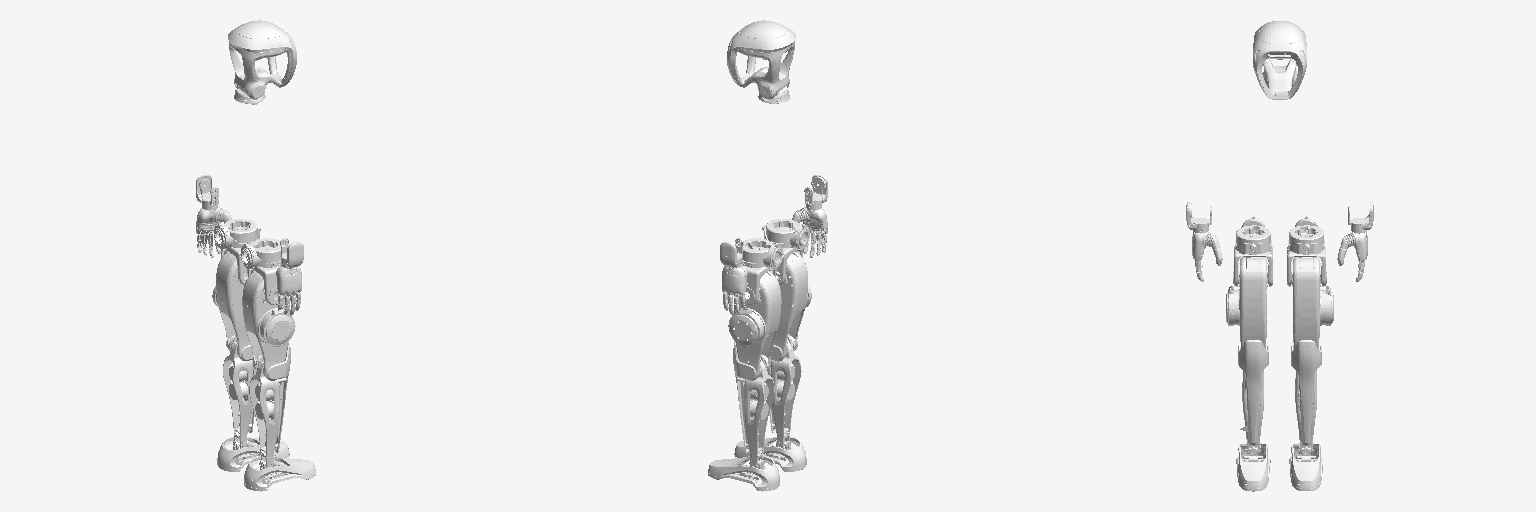
--- Facts derived from the render (not from the file) ---
Views: 3 orthographic renders of the robot side by side, from view 1: azimuth 30°, elevation 25°; view 2: azimuth 150°, elevation 25°; view 3: azimuth 270°, elevation 25°.
Model biped_s41 with 46 links and 45 joints (28 revolute, 17 fixed), rooted at dummy_link, posed every joint at zero.
Links seen in each view (by area): view 1: zhead_2_link, leg_r3_link, leg_r4_link, leg_l4_link, leg_l3_link, leg_r6_link, zarm_l6_link, zarm_r6_link, leg_l6_link, leg_l1_link, leg_r1_link, leg_r2_link; view 2: zhead_2_link, leg_l3_link, leg_l4_link, leg_r4_link, leg_r3_link, zarm_r6_link, leg_l6_link, zarm_l6_link, leg_r6_link, leg_r1_link, leg_l1_link, leg_l2_link; view 3: zhead_2_link, leg_r3_link, leg_l3_link, leg_r4_link, leg_l4_link, leg_r6_link, leg_l6_link, zarm_r6_link, zarm_l6_link, leg_l1_link, leg_r1_link.
Boxes of the visible links, bbox=[...] form: zhead_2_link: bbox=[228, 20, 296, 99]; leg_r3_link: bbox=[242, 271, 295, 380]; leg_r4_link: bbox=[249, 342, 290, 467]; leg_l4_link: bbox=[223, 336, 258, 448]; leg_l3_link: bbox=[212, 252, 250, 360]; leg_r6_link: bbox=[244, 457, 315, 491]; zarm_l6_link: bbox=[196, 175, 231, 257]; zarm_r6_link: bbox=[276, 238, 303, 315]; leg_l6_link: bbox=[217, 437, 289, 471]; leg_l1_link: bbox=[214, 219, 260, 249]; leg_r1_link: bbox=[241, 238, 283, 268]; leg_r2_link: bbox=[247, 266, 284, 304]; zhead_2_link: bbox=[727, 20, 795, 99]; leg_l3_link: bbox=[728, 271, 781, 380]; leg_l4_link: bbox=[733, 342, 774, 467]; leg_r4_link: bbox=[765, 336, 801, 448]; leg_r3_link: bbox=[773, 252, 811, 361]; zarm_r6_link: bbox=[792, 175, 827, 257]; leg_l6_link: bbox=[708, 457, 779, 491]; zarm_l6_link: bbox=[720, 238, 747, 315]; leg_r6_link: bbox=[734, 437, 806, 471]; leg_r1_link: bbox=[762, 219, 809, 249]; leg_l1_link: bbox=[739, 238, 782, 268]; leg_l2_link: bbox=[739, 265, 776, 304]; zhead_2_link: bbox=[1253, 21, 1306, 99]; leg_r3_link: bbox=[1226, 257, 1267, 349]; leg_l3_link: bbox=[1292, 257, 1333, 349]; leg_r4_link: bbox=[1238, 340, 1268, 453]; leg_l4_link: bbox=[1291, 340, 1321, 453]; leg_r6_link: bbox=[1236, 443, 1270, 491]; leg_l6_link: bbox=[1289, 443, 1322, 490]; zarm_r6_link: bbox=[1186, 202, 1222, 281]; zarm_l6_link: bbox=[1337, 202, 1373, 281]; leg_l1_link: bbox=[1288, 216, 1324, 254]; leg_r1_link: bbox=[1235, 216, 1271, 254].
Bounding box of the posed robot: 0.2597 × 0.6121 × 1.61 m (x, y, z).
Meshes: 31 distinct files referenced, 16 mesh visuals loaded (16 binary STL); not drawn: 15 (reference not matched to a file when rendering).

The robot description file, URDF, robot "biped_s41":
<?xml version='1.0' encoding='utf-8'?>
<robot name="biped_s41">
  <mujoco>
    <compiler meshdir="../meshes/" balanceinertia="true" discardvisual="false" />
  </mujoco>
  <link name="dummy_link" />
  <link name="base_link">
    <inertial>
      <origin xyz="-0.00505 0.0014 0.18077" rpy="0 0 0" />
      <mass value="23.8489" />
      <inertia ixx="0.28214" ixy="3e-05" ixz="0.01114" iyy="0.20534" iyz="0.00044" izz="0.13735" />
    </inertial>
    <visual>
      <origin xyz="0 0 0" rpy="0 0 0" />
      <geometry>
        <mesh filename="package://kuavo_assets/models/biped_s41/meshes/base_link.STL" />
      </geometry>
      <material name="">
        <color rgba="1 1 1 1" />
      </material>
    </visual>
  </link>
  <joint name="dummy_to_base_link" type="fixed">
    <origin xyz="0 0 0" rpy="0 0 0" />
    <parent link="dummy_link" />
    <child link="base_link" />
    <dynamics damping="0.2" friction="0.0"/>
  </joint>
  <link name="leg_l1_link">
    <inertial>
      <origin xyz="-0.00430148 -2.708e-05 -0.00851195" rpy="0 0 0" />
      <mass value="1.71093115" />
      <inertia ixx="0.00206092" ixy="1.97e-06" ixz="6.944e-05" iyy="0.00277274" iyz="-5.1e-06" izz="0.00370826" />
    </inertial>
    <visual>
      <origin xyz="0 0 0" rpy="0 0 0" />
      <geometry>
        <mesh filename="package://kuavo_assets/models/biped_s41/meshes/l_leg_roll.STL" />
      </geometry>
      <material name="">
        <color rgba="1 1 1 1" />
      </material>
    </visual>
  </link>
  <joint name="leg_l1_joint" type="revolute">
    <origin xyz="-0.0025 0.087 -0.066" rpy="0 0 0" />
    <parent link="base_link" />
    <child link="leg_l1_link" />
    <axis xyz="1 0 0" />
    <limit lower="-0.314159265358979" upper="0.663225115757845" effort="180.0" velocity="23.55" />
    <dynamics damping="0.2" friction="0.0"/>
  </joint>
  <link name="leg_l2_link">
    <inertial>
      <origin xyz="0.0 -0.00231118 -0.09062539" rpy="0 0 0" />
      <mass value="0.58029165" />
      <inertia ixx="0.00223984" ixy="0.0" ixz="3e-08" iyy="0.00123175" iyz="-6.98e-06" izz="0.00146391" />
    </inertial>
    <visual>
      <origin xyz="0 0 0" rpy="0 0 0" />
      <geometry>
        <mesh filename="package://kuavo_assets/models/biped_s41/meshes/l_leg_yaw.STL" />
      </geometry>
      <material name="">
        <color rgba="1 1 1 1" />
      </material>
    </visual>
  </link>
  <joint name="leg_l2_joint" type="revolute">
    <origin xyz="0 0 0" rpy="0 0 0" />
    <parent link="leg_l1_link" />
    <child link="leg_l2_link" />
    <axis xyz="0 0 1" />
    <limit lower="-0.872664625997165" upper="0.785398163397448" effort="100.0" velocity="41.3433333333333" />
    <dynamics damping="0.5" friction="0.0"/>
  </joint>
  <link name="leg_l3_link">
    <inertial>
      <origin xyz="0.00150537 0.01199614 -0.08411619" rpy="0 0 0" />
      <mass value="4.50393141" />
      <inertia ixx="0.0389365" ixy="7.866e-05" ixz="0.00102086" iyy="0.03942609" iyz="0.00219138" izz="0.00999961" />
    </inertial>
    <visual>
      <origin xyz="0 0 0" rpy="0 0 0" />
      <geometry>
        <mesh filename="package://kuavo_assets/models/biped_s41/meshes/l_leg_pitch.STL" />
      </geometry>
      <material name="">
        <color rgba="1 1 1 1" />
      </material>
    </visual>
  </link>
  <joint name="leg_l3_joint" type="revolute">
    <origin xyz="0.000500354536093913 -0.00100000000000011 -0.1287" rpy="0 0 0" />
    <parent link="leg_l2_link" />
    <child link="leg_l3_link" />
    <axis xyz="0 1 0" />
    <limit lower="-2.00712863979348" upper="1.5707963267949" effort="100.0" velocity="41.3433333333333" />
    <dynamics damping="0.2" friction="0.0"/>
  </joint>
  <link name="leg_l4_link">
    <inertial>
      <origin xyz="0.00696242 5.314e-05 -0.11549851" rpy="0 0 0" />
      <mass value="1.62776815" />
      <inertia ixx="0.01243912" ixy="-2.29e-06" ixz="5.881e-05" iyy="0.01229563" iyz="-2.895e-05" izz="0.00097937" />
    </inertial>
    <visual>
      <origin xyz="0 0 0" rpy="0 0 0" />
      <geometry>
        <mesh filename="package://kuavo_assets/models/biped_s41/meshes/l_knee.STL" />
      </geometry>
      <material name="">
        <color rgba="1 1 1 1" />
      </material>
    </visual>
  </link>
  <joint name="leg_l4_joint" type="revolute">
    <origin xyz="-6.87185435835039E-05 0 -0.284" rpy="0 0 0" />
    <parent link="leg_l3_link" />
    <child link="leg_l4_link" />
    <axis xyz="0 1 0" />
    <limit lower="0.0" upper="2.53072741539178" effort="180.0" velocity="23.55" />
    <dynamics damping="0.2" friction="0.0"/>
  </joint>
  <link name="leg_l5_link">
    <inertial>
      <origin xyz="0.0 0.0 0.0" rpy="0 0 0" />
      <mass value="0.07193524" />
      <inertia ixx="6.92e-04" ixy="0.0" ixz="0.0" iyy="6.92e-04" iyz="0.0" izz="1.218e-04" />
    </inertial>
    <visual>
      <origin xyz="0 0 0" rpy="0 0 0" />
      <geometry>
        <mesh filename="package://kuavo_assets/models/biped_s41/meshes/l_foot_pitch.STL" />
      </geometry>
      <material name="">
        <color rgba="1 1 1 1" />
      </material>
    </visual>
  </link>
  <joint name="leg_l5_joint" type="revolute">
    <origin xyz="-0.000431635992531742 0 -0.346000000000001" rpy="0 0 0" />
    <parent link="leg_l4_link" />
    <child link="leg_l5_link" />
    <axis xyz="0 1 0" />
    <limit lower="-0.872664625997165" upper="0.349065850398866" effort="36.0" velocity="23.0266666666667" />
    <dynamics damping="0.2" friction="0.0"/>
  </joint>
  <link name="leg_l6_link">
    <inertial>
      <origin xyz="0.03732754 -2.22e-06 -0.03883977" rpy="0 0 0" />
      <mass value="0.49861272" />
      <inertia ixx="0.00039242" ixy="3e-08" ixz="4.664e-05" iyy="0.00158655" iyz="0.0" izz="0.00172576" />
    </inertial>
    <visual>
      <origin xyz="0 0 0" rpy="0 0 0" />
      <geometry>
        <mesh filename="package://kuavo_assets/models/biped_s41/meshes/l_foot_roll.STL" />
      </geometry>
      <material name="">
        <color rgba="1 1 1 1" />
      </material>
    </visual>
  </link>
  <joint name="leg_l6_joint" type="revolute">
    <origin xyz="0 0 0" rpy="0 0 0" />
    <parent link="leg_l5_link" />
    <child link="leg_l6_link" />
    <axis xyz="1 0 0" />
    <limit lower="-0.261799387799149" upper="0.261799387799149" effort="36.0" velocity="23.0266666666667" />
    <dynamics damping="0.2" friction="0.0"/>
  </joint>
  <link name="ll_foot_toe">
    <collision>
      <origin rpy="0 0 0" xyz="0 0 0" />
      <geometry>
        <sphere radius="0.005" />
      </geometry>
    </collision>
  </link>
  <joint name="ll_foot_toe_joint" type="fixed">
    <origin xyz="0.17084 0.04773 -0.0595" rpy="0 0 0" />
    <parent link="leg_l6_link" />
    <child link="ll_foot_toe" />
    <dynamics damping="0.2" friction="0.0"/>
  </joint>
  <link name="ll_foot_heel">
    <collision>
      <origin rpy="0 0 0" xyz="0 0 0" />
      <geometry>
        <sphere radius="0.005" />
      </geometry>
    </collision>
  </link>
  <joint name="ll_foot_heel_joint" type="fixed">
    <origin xyz="-0.073164 0.04773 -0.0595" rpy="0 0 0" />
    <parent link="leg_l6_link" />
    <child link="ll_foot_heel" />
    <dynamics damping="0.2" friction="0.0"/>
  </joint>
  <link name="lr_foot_toe">
    <collision>
      <origin rpy="0 0 0" xyz="0 0 0" />
      <geometry>
        <sphere radius="0.005" />
      </geometry>
    </collision>
  </link>
  <joint name="lr_foot_toe_joint" type="fixed">
    <origin xyz="0.17084 -0.04773 -0.0595" rpy="0 0 0" />
    <parent link="leg_l6_link" />
    <child link="lr_foot_toe" />
    <dynamics damping="0.2" friction="0.0"/>
  </joint>
  <link name="lr_foot_heel">
    <collision>
      <origin rpy="0 0 0" xyz="0 0 0" />
      <geometry>
        <sphere radius="0.005" />
      </geometry>
    </collision>
  </link>
  <joint name="lr_foot_heel_joint" type="fixed">
    <origin xyz="-0.073164 -0.04773 -0.0595" rpy="0 0 0" />
    <parent link="leg_l6_link" />
    <child link="lr_foot_heel" />
    <dynamics damping="0.2" friction="0.0"/>
  </joint>
  <link name="l_foot_toe">
    <collision>
      <origin rpy="0 0 0" xyz="0 0 0" />
      <geometry>
        <sphere radius="0.005" />
      </geometry>
    </collision>
  </link>
  <joint name="l_foot_toe_joint" type="fixed">
    <origin xyz="0.17084 0.0 -0.0595" rpy="0 0 0" />
    <parent link="leg_l6_link" />
    <child link="l_foot_toe" />
    <dynamics damping="0.2" friction="0.0"/>
  </joint>
  <link name="l_foot_heel">
    <collision>
      <origin rpy="0 0 0" xyz="0 0 0" />
      <geometry>
        <sphere radius="0.005" />
      </geometry>
    </collision>
  </link>
  <joint name="l_foot_heel_joint" type="fixed">
    <origin xyz="-0.073164 0.0 -0.0595" rpy="0 0 0" />
    <parent link="leg_l6_link" />
    <child link="l_foot_heel" />
    <dynamics damping="0.2" friction="0.0"/>
  </joint>
  <link name="leg_r1_link">
    <inertial>
      <origin xyz="-0.00430146 2.709e-05 -0.00851195" rpy="0 0 0" />
      <mass value="1.71093008" />
      <inertia ixx="0.00206092" ixy="-1.97e-06" ixz="6.944e-05" iyy="0.00277274" iyz="5.1e-06" izz="0.00370826" />
    </inertial>
    <visual>
      <origin xyz="0 0 0" rpy="0 0 0" />
      <geometry>
        <mesh filename="package://kuavo_assets/models/biped_s41/meshes/r_leg_roll.STL" />
      </geometry>
      <material name="">
        <color rgba="1 1 1 1" />
      </material>
    </visual>
  </link>
  <joint name="leg_r1_joint" type="revolute">
    <origin xyz="-0.0025 -0.087 -0.066" rpy="0 0 0" />
    <parent link="base_link" />
    <child link="leg_r1_link" />
    <axis xyz="1 0 0" />
    <limit lower="-0.663225115757845" upper="0.314159265358979" effort="180.0" velocity="23.55" />
    <dynamics damping="0.2" friction="0.0"/>
  </joint>
  <link name="leg_r2_link">
    <inertial>
      <origin xyz="0.0 0.00231118 -0.09062539" rpy="0 0 0" />
      <mass value="0.58029165" />
      <inertia ixx="0.00223984" ixy="0.0" ixz="-3e-08" iyy="0.00123175" iyz="6.98e-06" izz="0.00146391" />
    </inertial>
    <visual>
      <origin xyz="0 0 0" rpy="0 0 0" />
      <geometry>
        <mesh filename="package://kuavo_assets/models/biped_s41/meshes/r_leg_yaw.STL" />
      </geometry>
      <material name="">
        <color rgba="1 1 1 1" />
      </material>
    </visual>
  </link>
  <joint name="leg_r2_joint" type="revolute">
    <origin xyz="0 0 0" rpy="0 0 0" />
    <parent link="leg_r1_link" />
    <child link="leg_r2_link" />
    <axis xyz="0 0 1" />
    <limit lower="-0.785398163397448" upper="0.872664625997165" effort="100.0" velocity="41.3433333333333" />
    <dynamics damping="0.5" friction="0.0"/>
  </joint>
  <link name="leg_r3_link">
    <inertial>
      <origin xyz="0.00208315 -0.01199644 -0.08411379" rpy="0 0 0" />
      <mass value="4.50385993" />
      <inertia ixx="0.03893478" ixy="-7.792e-05" ixz="0.00103064" iyy="0.03942522" iyz="-0.00219154" izz="0.01000016" />
    </inertial>
    <visual>
      <origin xyz="0 0 0" rpy="0 0 0" />
      <geometry>
        <mesh filename="package://kuavo_assets/models/biped_s41/meshes/r_leg_pitch.STL" />
      </geometry>
      <material name="">
        <color rgba="1 1 1 1" />
      </material>
    </visual>
  </link>
  <joint name="leg_r3_joint" type="revolute">
    <origin xyz="-4.88006581312577E-05 0 -0.1287" rpy="0 0 0" />
    <parent link="leg_r2_link" />
    <child link="leg_r3_link" />
    <axis xyz="0 1 0" />
    <limit lower="-2.00712863979348" upper="1.5707963267949" effort="100.0" velocity="41.3433333333333" />
    <dynamics damping="0.2" friction="0.0"/>
  </joint>
  <link name="leg_r4_link">
    <inertial>
      <origin xyz="0.00743231 -5.343e-05 -0.11558701" rpy="0 0 0" />
      <mass value="1.62655699" />
      <inertia ixx="0.01241258" ixy="2.28e-06" ixz="6.289e-05" iyy="0.0122692" iyz="2.902e-05" izz="0.00097927" />
    </inertial>
    <visual>
      <origin xyz="0 0 0" rpy="0 0 0" />
      <geometry>
        <mesh filename="package://kuavo_assets/models/biped_s41/meshes/r_knee.STL" />
      </geometry>
      <material name="">
        <color rgba="1 1 1 1" />
      </material>
    </visual>
  </link>
  <joint name="leg_r4_joint" type="revolute">
    <origin xyz="0.000147138572785148 0 -0.283999982974744" rpy="0 0 0" />
    <parent link="leg_r3_link" />
    <child link="leg_r4_link" />
    <axis xyz="0 1 0" />
    <limit lower="0.0" upper="2.53072741539178" effort="180.0" velocity="23.55" />
    <dynamics damping="0.2" friction="0.0"/>
  </joint>
  <link name="leg_r5_link">
    <inertial>
      <origin xyz="0.0 0.0 0.0" rpy="0 0 0" />
      <mass value="0.07193524" />
      <inertia ixx="6.92e-04" ixy="0.0" ixz="0.0" iyy="6.92e-04" iyz="0.0" izz="1.218e-04" />
    </inertial>
    <visual>
      <origin xyz="0 0 0" rpy="0 0 0" />
      <geometry>
        <mesh filename="package://kuavo_assets/models/biped_s41/meshes/r_foot_pitch.STL" />
      </geometry>
      <material name="">
        <color rgba="1 1 1 1" />
      </material>
    </visual>
  </link>
  <joint name="leg_r5_joint" type="revolute">
    <origin xyz="0.000119806050928577 0 -0.345999979257963" rpy="0 0 0" />
    <parent link="leg_r4_link" />
    <child link="leg_r5_link" />
    <axis xyz="0 1 0" />
    <limit lower="-0.872664625997165" upper="0.349065850398866" effort="36.0" velocity="23.0266666666667" />
    <dynamics damping="0.2" friction="0.0"/>
  </joint>
  <link name="leg_r6_link">
    <inertial>
      <origin xyz="0.03734098 -2.22e-06 -0.03882684" rpy="0 0 0" />
      <mass value="0.49861272" />
      <inertia ixx="0.00039238" ixy="3e-08" ixz="4.618e-05" iyy="0.00158655" iyz="0.0" izz="0.00172579" />
    </inertial>
    <visual>
      <origin xyz="0 0 0" rpy="0 0 0" />
      <geometry>
        <mesh filename="package://kuavo_assets/models/biped_s41/meshes/r_foot_roll.STL" />
      </geometry>
      <material name="">
        <color rgba="1 1 1 1" />
      </material>
    </visual>
  </link>
  <joint name="leg_r6_joint" type="revolute">
    <origin xyz="0 0 0" rpy="0 0 0" />
    <parent link="leg_r5_link" />
    <child link="leg_r6_link" />
    <axis xyz="1 0 0" />
    <limit lower="-0.261799387799149" upper="0.261799387799149" effort="36.0" velocity="23.0266666666667" />
    <dynamics damping="0.2" friction="0.0"/>
  </joint>
  <link name="rl_foot_toe">
    <collision>
      <origin rpy="0 0 0" xyz="0 0 0" />
      <geometry>
        <sphere radius="0.005" />
      </geometry>
    </collision>
  </link>
  <joint name="rl_foot_toe_joint" type="fixed">
    <origin xyz="0.17084 0.04773 -0.0595" rpy="0 0 0" />
    <parent link="leg_r6_link" />
    <child link="rl_foot_toe" />
    <dynamics damping="0.2" friction="0.0"/>
  </joint>
  <link name="rl_foot_heel">
    <collision>
      <origin rpy="0 0 0" xyz="0 0 0" />
      <geometry>
        <sphere radius="0.005" />
      </geometry>
    </collision>
  </link>
  <joint name="rl_foot_heel_joint" type="fixed">
    <origin xyz="-0.073164 0.04773 -0.0595" rpy="0 0 0" />
    <parent link="leg_r6_link" />
    <child link="rl_foot_heel" />
    <dynamics damping="0.2" friction="0.0"/>
  </joint>
  <link name="rr_foot_toe">
    <collision>
      <origin rpy="0 0 0" xyz="0 0 0" />
      <geometry>
        <sphere radius="0.005" />
      </geometry>
    </collision>
  </link>
  <joint name="rr_foot_toe_joint" type="fixed">
    <origin xyz="0.17084 -0.04773 -0.0595" rpy="0 0 0" />
    <parent link="leg_r6_link" />
    <child link="rr_foot_toe" />
    <dynamics damping="0.2" friction="0.0"/>
  </joint>
  <link name="rr_foot_heel">
    <collision>
      <origin rpy="0 0 0" xyz="0 0 0" />
      <geometry>
        <sphere radius="0.005" />
      </geometry>
    </collision>
  </link>
  <joint name="rr_foot_heel_joint" type="fixed">
    <origin xyz="-0.073164 -0.04773 -0.0595" rpy="0 0 0" />
    <parent link="leg_r6_link" />
    <child link="rr_foot_heel" />
    <dynamics damping="0.2" friction="0.0"/>
  </joint>
  <link name="r_foot_toe">
    <collision>
      <origin rpy="0 0 0" xyz="0 0 0" />
      <geometry>
        <sphere radius="0.005" />
      </geometry>
    </collision>
  </link>
  <joint name="r_foot_toe_joint" type="fixed">
    <origin xyz="0.17084 0.0 -0.0595" rpy="0 0 0" />
    <parent link="leg_r6_link" />
    <child link="r_foot_toe" />
    <dynamics damping="0.2" friction="0.0"/>
  </joint>
  <link name="r_foot_heel">
    <collision>
      <origin rpy="0 0 0" xyz="0 0 0" />
      <geometry>
        <sphere radius="0.005" />
      </geometry>
    </collision>
  </link>
  <joint name="r_foot_heel_joint" type="fixed">
    <origin xyz="-0.073164 0.0 -0.0595" rpy="0 0 0" />
    <parent link="leg_r6_link" />
    <child link="r_foot_heel" />
    <dynamics damping="0.2" friction="0.0"/>
  </joint>
  <link name="zarm_l1_link">
    <inertial>
      <origin xyz="0.008 -0.00158 0.0036" rpy="0 0 0" />
      <mass value="1.15" />
      <inertia ixx="0.0006" ixy="5e-05" ixz="1e-05" iyy="0.00048" iyz="-6e-05" izz="0.0007" />
    </inertial>
    <visual>
      <origin xyz="0 0 0" rpy="0 0 0" />
      <geometry>
        <mesh filename="package://kuavo_assets/models/biped_s41/meshes/l_arm_pitch.STL" />
      </geometry>
      <material name="">
        <color rgba="1 1 1 1" />
      </material>
    </visual>
  </link>
  <joint name="zarm_l1_joint" type="revolute">
    <origin xyz="-0.0175 0.25886 0.3245" rpy="0 0 0" />
    <parent link="base_link" />
    <child link="zarm_l1_link" />
    <axis xyz="0 1 0" />
    <limit lower="-2.61799387799149" upper="0.523598775598299" effort="100.0" velocity="41.3433333333333" />
    <dynamics damping="0.2" friction="0.0"/>
  </joint>
  <link name="zarm_l2_link">
    <inertial>
      <origin xyz="0.00144 0.02159 -0.0202" rpy="0 0 0" />
      <mass value="0.226" />
      <inertia ixx="0.0003" ixy="3e-05" ixz="1e-05" iyy="0.00061" iyz="5e-05" izz="0.00057" />
    </inertial>
    <visual>
      <origin xyz="0 0 0" rpy="0 0 0" />
      <geometry>
        <mesh filename="package://kuavo_assets/models/biped_s41/meshes/l_arm_roll.STL" />
      </geometry>
      <material name="">
        <color rgba="1 1 1 1" />
      </material>
    </visual>
  </link>
  <joint name="zarm_l2_joint" type="revolute">
    <origin xyz="0 0 0" rpy="0 0 0" />
    <parent link="zarm_l1_link" />
    <child link="zarm_l2_link" />
    <axis xyz="1 0 0" />
    <limit lower="-0.349065850398866" upper="2.0943951023932" effort="50.0" velocity="19.154" />
    <dynamics damping="0.2" friction="0.0"/>
  </joint>
  <link name="zarm_l3_link">
    <inertial>
      <origin xyz="-0.00157 -3e-05 -0.13318" rpy="0 0 0" />
      <mass value="1.166" />
      <inertia ixx="0.00245" ixy="-1e-05" ixz="-1e-05" iyy="0.0022" iyz="0.0" izz="0.00112" />
    </inertial>
    <visual>
      <origin xyz="0 0 0" rpy="0 0 0" />
      <geometry>
        <mesh filename="package://kuavo_assets/models/biped_s41/meshes/l_arm_yaw.STL" />
      </geometry>
      <material name="">
        <color rgba="1 1 1 1" />
      </material>
    </visual>
  </link>
  <joint name="zarm_l3_joint" type="revolute">
    <origin xyz="0 0 0" rpy="0 0 0" />
    <parent link="zarm_l2_link" />
    <child link="zarm_l3_link" />
    <axis xyz="0 0 1" />
    <limit lower="-1.5707963267949" upper="1.5707963267949" effort="20.0" velocity="18.84" />
    <dynamics damping="0.2" friction="0.0"/>
  </joint>
  <link name="zarm_l4_link">
    <inertial>
      <origin xyz="-4e-05 0.0098 -0.05283" rpy="0 0 0" />
      <mass value="0.575" />
      <inertia ixx="0.00098" ixy="0.0" ixz="0.0" iyy="0.00062" iyz="-0.00016" izz="0.00088" />
    </inertial>
    <visual>
      <origin xyz="0 0 0" rpy="0 0 0" />
      <geometry>
        <mesh filename="package://kuavo_assets/models/biped_s41/meshes/l_forearm.STL" />
      </geometry>
      <material name="">
        <color rgba="1 1 1 1" />
      </material>
    </visual>
  </link>
  <joint name="zarm_l4_joint" type="revolute">
    <origin xyz="0 0 -0.1646" rpy="0 0 0" />
    <parent link="zarm_l3_link" />
    <child link="zarm_l4_link" />
    <axis xyz="0 1 0" />
    <limit lower="-1.5707963267949" upper="0.0" effort="20.0" velocity="18.84" />
    <dynamics damping="0.2" friction="0.0"/>
  </joint>
  <link name="zarm_l5_link">
    <inertial>
      <origin xyz="-0.00011 0.00421 -0.11168" rpy="0 0 0" />
      <mass value="0.46" />
      <inertia ixx="0.00077" ixy="0.0" ixz="0.0" iyy="0.0005" iyz="-4e-05" izz="0.00063" />
    </inertial>
    <visual>
      <origin xyz="0 0 0" rpy="0 0 0" />
      <geometry>
        <mesh filename="package://kuavo_assets/models/biped_s41/meshes/l_hand_yaw.STL" />
      </geometry>
      <material name="">
        <color rgba="1 1 1 1" />
      </material>
    </visual>
  </link>
  <joint name="zarm_l5_joint" type="revolute">
    <origin xyz="0 0 0" rpy="0 0 0" />
    <parent link="zarm_l4_link" />
    <child link="zarm_l5_link" />
    <axis xyz="0 0 1" />
    <limit lower="-1.5707963267949" upper="1.5707963267949" effort="6.0" velocity="21.666" />
    <dynamics damping="0.2" friction="0.0"/>
  </joint>
  <link name="zarm_l6_link">
    <inertial>
      <origin xyz="0.00253 0.00382 -0.05356" rpy="0 0 0" />
      <mass value="0.35" />
      <inertia ixx="0.00023" ixy="0.0" ixz="0.0" iyy="0.00024" iyz="-4e-05" izz="0.00019" />
    </inertial>
    <visual>
      <origin xyz="0 0 0" rpy="0 0 0" />
      <geometry>
        <mesh filename="package://kuavo_assets/models/biped_s41/meshes/l_hand_pitch.STL" />
      </geometry>
      <material name="">
        <color rgba="1 1 1 1" />
      </material>
    </visual>
  </link>
  <joint name="zarm_l6_joint" type="revolute">
    <origin xyz="0 0 -0.132050000125748" rpy="0 0 0" />
    <parent link="zarm_l5_link" />
    <child link="zarm_l6_link" />
    <axis xyz="0 1 0" />
    <limit lower="-1.5707963267949" upper="1.5707963267949" effort="6.0" velocity="21.666" />
    <dynamics damping="0.2" friction="0.0"/>
  </joint>
  <link name="zarm_l7_link">
    <inertial>
      <origin xyz="0.00267 0.00748 -0.07162" rpy="0 0 0" />
      <mass value="0.81" />
      <inertia ixx="0.00117" ixy="2e-05" ixz="0.0" iyy="0.00128" iyz="-2e-05" izz="0.00036" />
    </inertial>
    <visual>
      <origin xyz="0 0 0" rpy="0 0 0" />
      <geometry>
        <mesh filename="package://kuavo_assets/models/biped_s41/meshes/l_hand_roll.STL" />
      </geometry>
      <material name="">
        <color rgba="1 1 1 1" />
      </material>
    </visual>
  </link>
  <joint name="zarm_l7_joint" type="revolute">
    <origin xyz="0 0 -0.0589999999999999" rpy="0 0 0" />
    <parent link="zarm_l6_link" />
    <child link="zarm_l7_link" />
    <axis xyz="1 0 0" />
    <limit lower="-1.5707963267949" upper="1.5707963267949" effort="6.0" velocity="21.666" />
    <dynamics damping="0.2" friction="0.0"/>
  </joint>
  <link name="zarm_l7_end_effector">
    <collision>
      <origin rpy="0 0 0" xyz="0 0 0" />
      <geometry>
        <sphere radius="0.005" />
      </geometry>
    </collision>
  </link>
  <joint name="zarm_l7_end_effector_joint" type="fixed">
    <origin xyz="0 -0.03 -0.17" rpy="0 0 0" />
    <parent link="zarm_l7_link" />
    <child link="zarm_l7_end_effector" />
    <dynamics damping="0.2" friction="0.0"/>
  </joint>
  <link name="zarm_r1_link">
    <inertial>
      <origin xyz="0.008 0.00158 -0.0036" rpy="0 0 0" />
      <mass value="1.15" />
      <inertia ixx="0.0006" ixy="-5e-05" ixz="-1e-05" iyy="0.00048" iyz="-6e-05" izz="0.0007" />
    </inertial>
    <visual>
      <origin xyz="0 0 0" rpy="0 0 0" />
      <geometry>
        <mesh filename="package://kuavo_assets/models/biped_s41/meshes/r_arm_pitch.STL" />
      </geometry>
      <material name="">
        <color rgba="1 1 1 1" />
      </material>
    </visual>
  </link>
  <joint name="zarm_r1_joint" type="revolute">
    <origin xyz="-0.0175 -0.25886 0.3245" rpy="0 0 0" />
    <parent link="base_link" />
    <child link="zarm_r1_link" />
    <axis xyz="0 1 0" />
    <limit lower="-2.61799387799149" upper="0.523598775598299" effort="100.0" velocity="41.3433333333333" />
    <dynamics damping="0.2" friction="0.0"/>
  </joint>
  <link name="zarm_r2_link">
    <inertial>
      <origin xyz="0.00144 -0.02159 -0.02021" rpy="0 0 0" />
      <mass value="0.226" />
      <inertia ixx="0.0003" ixy="-3e-05" ixz="1e-05" iyy="0.00061" iyz="-5e-05" izz="0.00057" />
    </inertial>
    <visual>
      <origin xyz="0 0 0" rpy="0 0 0" />
      <geometry>
        <mesh filename="package://kuavo_assets/models/biped_s41/meshes/r_arm_roll.STL" />
      </geometry>
      <material name="">
        <color rgba="1 1 1 1" />
      </material>
    </visual>
  </link>
  <joint name="zarm_r2_joint" type="revolute">
    <origin xyz="0 0 0" rpy="0 0 0" />
    <parent link="zarm_r1_link" />
    <child link="zarm_r2_link" />
    <axis xyz="1 0 0" />
    <limit lower="-2.0943951023932" upper="0.349065850398866" effort="50.0" velocity="19.154" />
    <dynamics damping="0.2" friction="0.0"/>
  </joint>
  <link name="zarm_r3_link">
    <inertial>
      <origin xyz="-0.00157 3e-05 -0.13318" rpy="0 0 0" />
      <mass value="1.166" />
      <inertia ixx="0.00245" ixy="1e-05" ixz="-1e-05" iyy="0.0022" iyz="0.0" izz="0.00112" />
    </inertial>
    <visual>
      <origin xyz="0 0 0" rpy="0 0 0" />
      <geometry>
        <mesh filename="package://kuavo_assets/models/biped_s41/meshes/r_arm_yaw.STL" />
      </geometry>
      <material name="">
        <color rgba="1 1 1 1" />
      </material>
    </visual>
  </link>
  <joint name="zarm_r3_joint" type="revolute">
    <origin xyz="0 0 0" rpy="0 0 0" />
    <parent link="zarm_r2_link" />
    <child link="zarm_r3_link" />
    <axis xyz="0 0 1" />
    <limit lower="-1.5707963267949" upper="1.5707963267949" effort="20.0" velocity="18.84" />
    <dynamics damping="0.2" friction="0.0"/>
  </joint>
  <link name="zarm_r4_link">
    <inertial>
      <origin xyz="-4e-05 -0.0098 -0.05283" rpy="0 0 0" />
      <mass value="0.575" />
      <inertia ixx="0.00098" ixy="0.0" ixz="0.0" iyy="0.00062" iyz="0.00016" izz="0.00088" />
    </inertial>
    <visual>
      <origin xyz="0 0 0" rpy="0 0 0" />
      <geometry>
        <mesh filename="package://kuavo_assets/models/biped_s41/meshes/r_forearm.STL" />
      </geometry>
      <material name="">
        <color rgba="1 1 1 1" />
      </material>
    </visual>
  </link>
  <joint name="zarm_r4_joint" type="revolute">
    <origin xyz="0 0 -0.1646" rpy="0 0 0" />
    <parent link="zarm_r3_link" />
    <child link="zarm_r4_link" />
    <axis xyz="0 1 0" />
    <limit lower="-1.5707963267949" upper="0.0" effort="20.0" velocity="18.84" />
    <dynamics damping="0.2" friction="0.0"/>
  </joint>
  <link name="zarm_r5_link">
    <inertial>
      <origin xyz="-0.00011 -0.00421 -0.11168" rpy="0 0 0" />
      <mass value="0.46" />
      <inertia ixx="0.00077" ixy="0.0" ixz="0.0" iyy="0.0005" iyz="4e-05" izz="0.00063" />
    </inertial>
    <visual>
      <origin xyz="0 0 0" rpy="0 0 0" />
      <geometry>
        <mesh filename="package://kuavo_assets/models/biped_s41/meshes/r_hand_yaw.STL" />
      </geometry>
      <material name="">
        <color rgba="1 1 1 1" />
      </material>
    </visual>
  </link>
  <joint name="zarm_r5_joint" type="revolute">
    <origin xyz="0 0 0" rpy="0 0 0" />
    <parent link="zarm_r4_link" />
    <child link="zarm_r5_link" />
    <axis xyz="0 0 1" />
    <limit lower="-1.5707963267949" upper="1.5707963267949" effort="6.0" velocity="21.666" />
    <dynamics damping="0.2" friction="0.0"/>
  </joint>
  <link name="zarm_r6_link">
    <inertial>
      <origin xyz="0.00253 -0.00382 -0.05356" rpy="0 0 0" />
      <mass value="0.35" />
      <inertia ixx="0.00023" ixy="0.0" ixz="0.0" iyy="0.00024" iyz="4e-05" izz="0.00019" />
    </inertial>
    <visual>
      <origin xyz="0 0 0" rpy="0 0 0" />
      <geometry>
        <mesh filename="package://kuavo_assets/models/biped_s41/meshes/r_hand_pitch.STL" />
      </geometry>
      <material name="">
        <color rgba="1 1 1 1" />
      </material>
    </visual>
  </link>
  <joint name="zarm_r6_joint" type="revolute">
    <origin xyz="0 0 -0.132050000240097" rpy="0 0 0" />
    <parent link="zarm_r5_link" />
    <child link="zarm_r6_link" />
    <axis xyz="0 1 0" />
    <limit lower="-1.5707963267949" upper="1.5707963267949" effort="6.0" velocity="21.666" />
    <dynamics damping="0.2" friction="0.0"/>
  </joint>
  <link name="zarm_r7_link">
    <inertial>
      <origin xyz="0.00267 -0.00748 -0.07162" rpy="0 0 0" />
      <mass value="0.81" />
      <inertia ixx="0.00098" ixy="-1e-05" ixz="1e-05" iyy="0.00104" iyz="1e-05" izz="0.00027" />
    </inertial>
    <visual>
      <origin xyz="0 0 0" rpy="0 0 0" />
      <geometry>
        <mesh filename="package://kuavo_assets/models/biped_s41/meshes/r_hand_roll.STL" />
      </geometry>
      <material name="">
        <color rgba="1 1 1 1" />
      </material>
    </visual>
  </link>
  <joint name="zarm_r7_joint" type="revolute">
    <origin xyz="0 0 -0.0589999999999999" rpy="0 0 0" />
    <parent link="zarm_r6_link" />
    <child link="zarm_r7_link" />
    <axis xyz="1 0 0" />
    <limit lower="-1.5707963267949" upper="1.5707963267949" effort="6.0" velocity="21.666" />
    <dynamics damping="0.2" friction="0.0"/>
  </joint>
  <link name="zarm_r7_end_effector">
    <collision>
      <origin rpy="0 0 0" xyz="0 0 0" />
      <geometry>
        <sphere radius="0.005" />
      </geometry>
    </collision>
  </link>
  <joint name="zarm_r7_end_effector_joint" type="fixed">
    <origin xyz="0 0.03 -0.17" rpy="0 0 0" />
    <parent link="zarm_r7_link" />
    <child link="zarm_r7_end_effector" />
    <dynamics damping="0.2" friction="0.0"/>
  </joint>
  <link name="zhead_1_link">
    <inertial>
      <origin xyz="0.0 0.01245 -0.02982" rpy="0 0 0" />
      <mass value="0.082" />
      <inertia ixx="7e-05" ixy="0.0" ixz="0.0" iyy="6e-05" iyz="-2e-05" izz="8e-05" />
    </inertial>
    <visual>
      <origin xyz="0 0 0" rpy="0 0 0" />
      <geometry>
        <mesh
          filename="package://kuavo_assets/models/biped_s41/meshes/head_yaw.STL" />
      </geometry>
      <material name="">
        <color rgba="1 1 1 1" />
      </material>
    </visual>
  </link>
  <joint name="zhead_1_joint" type="revolute">
    <origin xyz="-0.0175 0.0 0.5014" rpy="0 0 0" />
    <parent link="base_link" />
    <child link="zhead_1_link" />
    <axis xyz="0 0 1" />
    <limit lower="-1.5707963267949" upper="1.5707963267949" effort="1.5" velocity="5.23333333333333" />
    <dynamics damping="0.2" friction="0.0"/>
  </joint>
  <link name="zhead_2_link">
    <inertial>
      <origin xyz="0.01106 0.00069 0.0586" rpy="0 0 0" />
      <mass value="1.379" />
      <inertia ixx="0.003" ixy="1e-05" ixz="0.0003" iyy="0.00301" iyz="5e-05" izz="0.00281" />
    </inertial>
    <visual>
      <origin xyz="0 0 0" rpy="0 0 0" />
      <geometry>
        <mesh filename="package://kuavo_assets/models/biped_s41/meshes/head_pitch.STL" />
      </geometry>
      <material name="">
        <color rgba="1 1 1 1" />
      </material>
    </visual>
  </link>
  <joint name="zhead_2_joint" type="revolute">
    <origin xyz="0 0 0" rpy="0 0 0" />
    <parent link="zhead_1_link" />
    <child link="zhead_2_link" />
    <axis xyz="0 1 0" />
    <limit lower="-0.523598775598299" upper="0.523598775598299" effort="6.0" velocity="9.734" />
    <dynamics damping="0.2" friction="0.0"/>
  </joint>
  <link name="camera">
    <inertial>
      <origin xyz="-0.04336 -0.01736 -0.01161" rpy="0 0 0" />
      <mass value="0.047" />
      <inertia ixx="0.00065" ixy="0.0" ixz="0.00015" iyy="0.00091" iyz="0.0" izz="0.00105" />
    </inertial>
    <visual>
      <origin xyz="0 0 0" rpy="0 0 0" />
      <geometry>
        <mesh filename="package://kuavo_assets/models/biped_s41/meshes/camera.STL" />
      </geometry>
      <material name="">
        <color rgba="1 1 1 1" />
      </material>
    </visual>
  </link>
  <joint name="camera" type="fixed">
    <origin xyz="0.0919101155958193 0.0175000000022731 0.0617838754768194" rpy="0 0.610865238198013 0" />
    <parent link="zhead_2_link" />
    <child link="camera" />
    <dynamics damping="0.2" friction="0.0"/>
  </joint>

  <link
    name="camera_base">
    <inertial>
      <origin
        xyz="0.00354055612698423 0.00140393663616134 0.0124511788327371"
        rpy="0 0 0" />
      <mass
        value="0.0170255961584929" />
      <inertia
        ixx="1.09182620877589E-05"
        ixy="1.05354237503678E-07"
        ixz="1.05871360812799E-08"
        iyy="8.57178923448405E-07"
        iyz="1.6401848102306E-08"
        izz="1.02869873531782E-05" />
    </inertial>
    <visual>
      <origin
        xyz="0 0 0"
        rpy="0 0 0" />
      <geometry>
        <mesh
          filename="package://kuavo_assets/models/biped_s41/meshes/camera_base.STL" />
      </geometry>
      <material
        name="">
        <color
          rgba="1 1 1 1" />
      </material>
    </visual>
    <collision>
      <origin
        xyz="0 0 0"
        rpy="0 0 0" />
      <geometry>
        <mesh
          filename="package://kuavo_assets/models/biped_s41/meshes/camera_base.STL" />
      </geometry>
    </collision>
  </link>
  <joint
    name="camera_base"
    type="fixed">
    <origin
      xyz="0.0766792844154498 0 0.0571889355165869"
      rpy="0 0.610865238198013 0" />
    <parent
      link="zhead_2_link" />
    <child
      link="camera_base" />
  </joint>

  <!-- 在原有的gazebo插件配置后添加 -->
  <!-- 真值 -->
  <gazebo>
    <plugin filename="libgazebo_ros_p3d.so" name="p3d_base_controller">
      <alwaysOn>true</alwaysOn>
      <updateRate>500.0</updateRate>
      <bodyName>dummy_link</bodyName>
      <topicName>ground_truth/state</topicName>
      <gaussianNoise>0</gaussianNoise>
      <frameName>world</frameName>
      <xyzOffsets>0 0 0</xyzOffsets>
      <rpyOffsets>0 0 0</rpyOffsets>
    </plugin>
  </gazebo>

  <!-- 左脚 -->
  <gazebo reference="leg_l6_link">
    <mu1>1.5</mu1>
    <mu2>2.5</mu2>
    <self_collide>1</self_collide>
    <kp value="1000000.0"/>
    <kd value="100.0"/>
    <maxVel>3</maxVel>
    <minDepth>0.00</minDepth>
  </gazebo>
  <gazebo reference="l_foot_heel">
    <mu1>1.5</mu1>
    <mu2>2.5</mu2>
    <self_collide>1</self_collide>
    <kp value="1000000.0"/>
    <kd value="100.0"/>
    <maxVel>3</maxVel>
    <minDepth>0.00</minDepth>
  </gazebo>
  <gazebo reference="l_foot_toe">
    <mu1>1.5</mu1>
    <mu2>2.5</mu2>
    <self_collide>1</self_collide>
    <kp value="1000000.0"/>
    <kd value="100.0"/>
    <maxVel>3</maxVel>
    <minDepth>0.00</minDepth>
  </gazebo>
  <gazebo reference="lr_foot_heel">
    <mu1>1.5</mu1>
    <mu2>2.5</mu2>
    <self_collide>1</self_collide>
    <kp value="1000000.0"/>
    <kd value="100.0"/>
    <maxVel>3</maxVel>
    <minDepth>0.00</minDepth>
  </gazebo>
  <gazebo reference="lr_foot_toe">
    <mu1>1.5</mu1>
    <mu2>2.5</mu2>
    <self_collide>1</self_collide>
    <kp value="1000000.0"/>
    <kd value="100.0"/>
    <maxVel>3</maxVel>
    <minDepth>0.00</minDepth>
  </gazebo>
  <gazebo reference="ll_foot_heel">
    <mu1>1.5</mu1>
    <mu2>2.5</mu2>
    <self_collide>1</self_collide>
    <kp value="1000000.0"/>
    <kd value="100.0"/>
    <maxVel>3</maxVel>
    <minDepth>0.00</minDepth>
  </gazebo>
  <gazebo reference="ll_foot_toe">
    <mu1>1.5</mu1>
    <mu2>2.5</mu2>
    <self_collide>1</self_collide>
    <kp value="1000000.0"/>
    <kd value="100.0"/>
    <maxVel>3</maxVel>
    <minDepth>0.00</minDepth>
  </gazebo>

  <!-- 右脚 -->
  <gazebo reference="leg_r6_link">
    <mu1>1.5</mu1>
    <mu2>2.5</mu2>
    <self_collide>1</self_collide>
    <kp value="1000000.0"/>
    <kd value="100.0"/>
    <maxVel>3</maxVel>
    <minDepth>0.00</minDepth>
  </gazebo>
  <gazebo reference="r_foot_heel">
    <mu1>1.5</mu1>
    <mu2>2.5</mu2>
    <self_collide>1</self_collide>
    <kp value="1000000.0"/>
    <kd value="100.0"/>
    <maxVel>3</maxVel>
    <minDepth>0.00</minDepth>
  </gazebo>
  <gazebo reference="r_foot_toe">
    <mu1>1.5</mu1>
    <mu2>2.5</mu2>
    <self_collide>1</self_collide>
    <kp value="1000000.0"/>
    <kd value="100.0"/>
    <maxVel>3</maxVel>
    <minDepth>0.00</minDepth>
  </gazebo>
  <gazebo reference="rl_foot_toe">
    <mu1>1.5</mu1>
    <mu2>2.5</mu2>
    <self_collide>1</self_collide>
    <kp value="1000000.0"/>
    <kd value="100.0"/>
    <maxVel>3</maxVel>
    <minDepth>0.00</minDepth>
  </gazebo>
  <gazebo reference="rl_foot_heel">
    <mu1>1.5</mu1>
    <mu2>2.5</mu2>
    <self_collide>1</self_collide>
    <kp value="1000000.0"/>
    <kd value="100.0"/>
    <maxVel>3</maxVel>
    <minDepth>0.00</minDepth>
  </gazebo>
  <gazebo reference="rr_foot_toe">
    <mu1>1.5</mu1>
    <mu2>2.5</mu2>
    <self_collide>1</self_collide>
    <kp value="1000000.0"/>
    <kd value="100.0"/>
    <maxVel>3</maxVel>
    <minDepth>0.00</minDepth>
  </gazebo>
  <gazebo reference="rr_foot_heel">
    <mu1>1.5</mu1>
    <mu2>2.5</mu2>
    <self_collide>1</self_collide>
    <kp value="1000000.0"/>
    <kd value="100.0"/>
    <maxVel>3</maxVel>
    <minDepth>0.00</minDepth>
  </gazebo>

  <!-- 仿真插件 -->
  <gazebo>
    <plugin name="gazebo_shm_interface" filename="libgazebo_sim_shm_interface.so">
      <!-- IMU配置 gazebo中fixed连接的link都只能获取第一个-->
      <imu>
        <frame_id>dummy_link</frame_id>
      </imu>
      
      <!-- 关节配置 -->
      <joints>
        <!-- 左腿关节 -->
        <joint><name>leg_l1_joint</name></joint>
        <joint><name>leg_l2_joint</name></joint>
        <joint><name>leg_l3_joint</name></joint>
        <joint><name>leg_l4_joint</name></joint>
        <joint><name>leg_l5_joint</name></joint>
        <joint><name>leg_l6_joint</name></joint>
        
        <!-- 右腿关节 -->
        <joint><name>leg_r1_joint</name></joint>
        <joint><name>leg_r2_joint</name></joint>
        <joint><name>leg_r3_joint</name></joint>
        <joint><name>leg_r4_joint</name></joint>
        <joint><name>leg_r5_joint</name></joint>
        <joint><name>leg_r6_joint</name></joint>
        
        <!-- 左臂关节 -->
        <joint><name>zarm_l1_joint</name></joint>
        <joint><name>zarm_l2_joint</name></joint>
        <joint><name>zarm_l3_joint</name></joint>
        <joint><name>zarm_l4_joint</name></joint>
        <joint><name>zarm_l5_joint</name></joint>
        <joint><name>zarm_l6_joint</name></joint>
        <joint><name>zarm_l7_joint</name></joint>
        
        <!-- 右臂关节 -->
        <joint><name>zarm_r1_joint</name></joint>
        <joint><name>zarm_r2_joint</name></joint>
        <joint><name>zarm_r3_joint</name></joint>
        <joint><name>zarm_r4_joint</name></joint>
        <joint><name>zarm_r5_joint</name></joint>
        <joint><name>zarm_r6_joint</name></joint>
        <joint><name>zarm_r7_joint</name></joint>
        
        <!-- 头部关节 -->
        <joint><name>zhead_1_joint</name></joint>
        <joint><name>zhead_2_joint</name></joint>
      </joints>
      
      <!-- 接触传感器配置 -->
      <contacts>
        <contact><link>ll_foot_toe</link></contact>
        <contact><link>ll_foot_heel</link></contact>
        <contact><link>lr_foot_toe</link></contact>
        <contact><link>lr_foot_heel</link></contact>
        <contact><link>rl_foot_toe</link></contact>
        <contact><link>rl_foot_heel</link></contact>
        <contact><link>rr_foot_toe</link></contact>
        <contact><link>rr_foot_heel</link></contact>
      </contacts>
      </plugin>
  </gazebo>
  
</robot>
